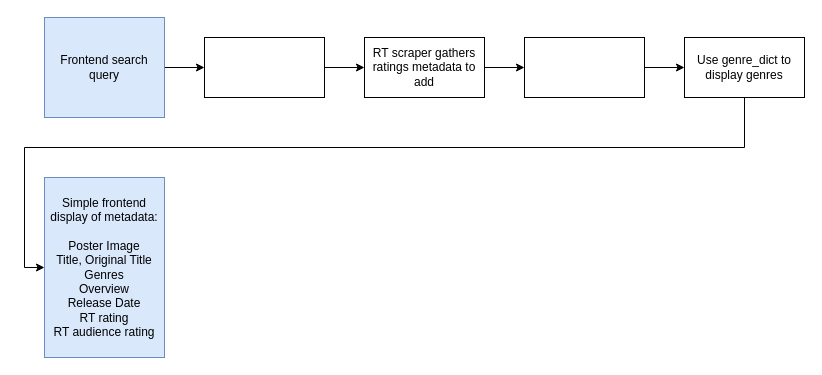
This 822x375 diagram has some shape labels left out. The shapes that lost their labels are listed below. From the top down, each one's centre as x and y in pixels, then its label:
(264,67): TMDB movie search request
(584,67): TMDB loads posters to display
